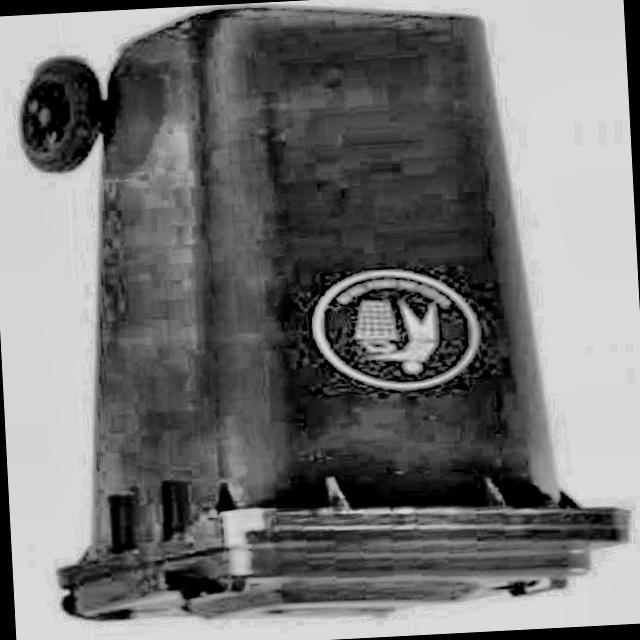Dustbin: (14, 0, 621, 632)
